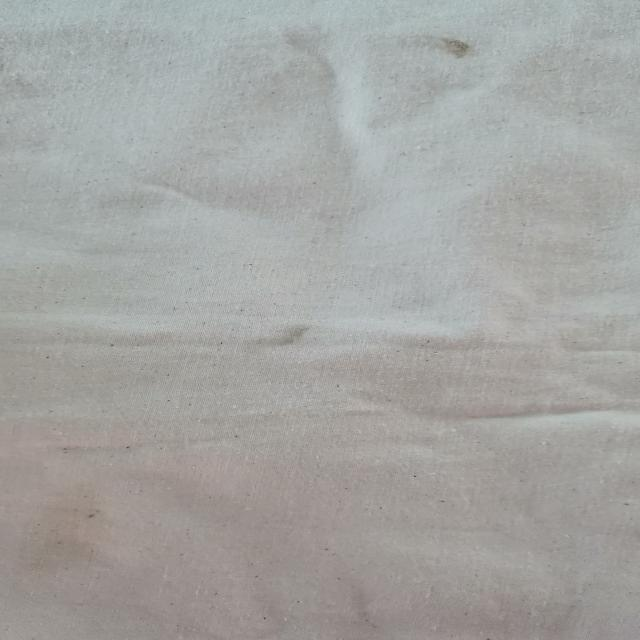taaaches: (397, 27, 499, 69), (243, 317, 321, 357)
